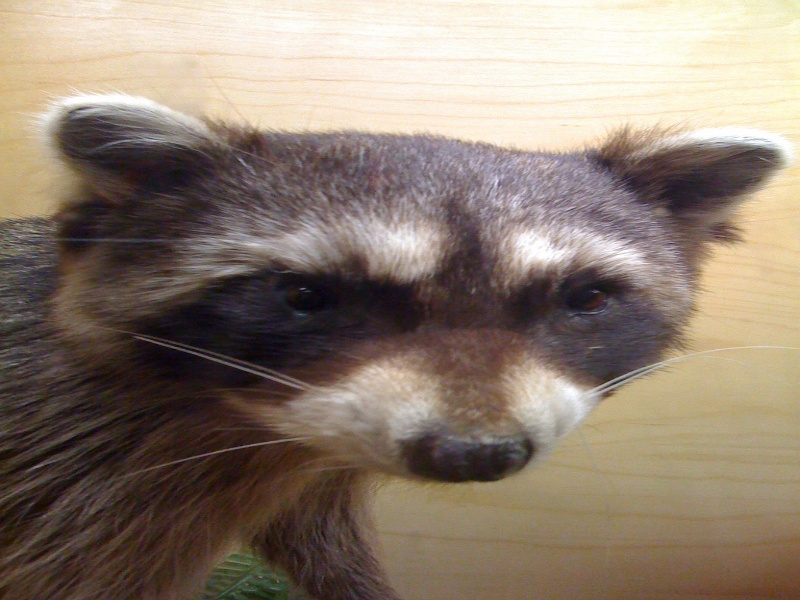raccoon: (2, 100, 781, 600)
